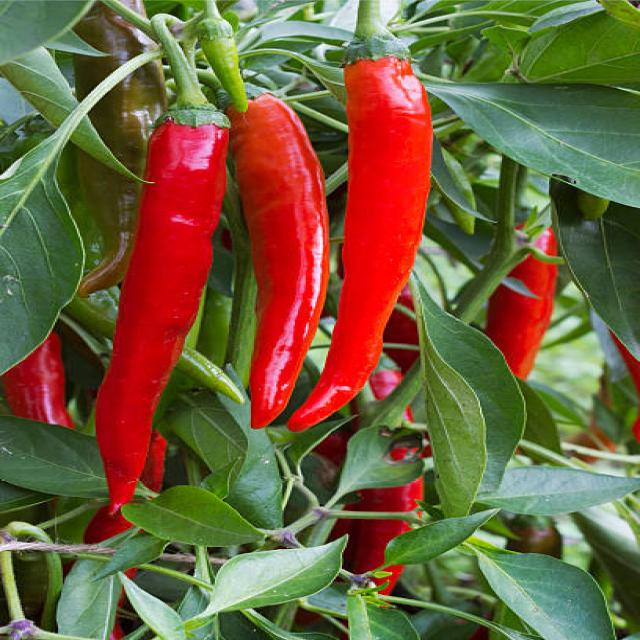Ripe: (96, 118, 227, 531), (290, 55, 430, 430), (231, 94, 328, 427)
